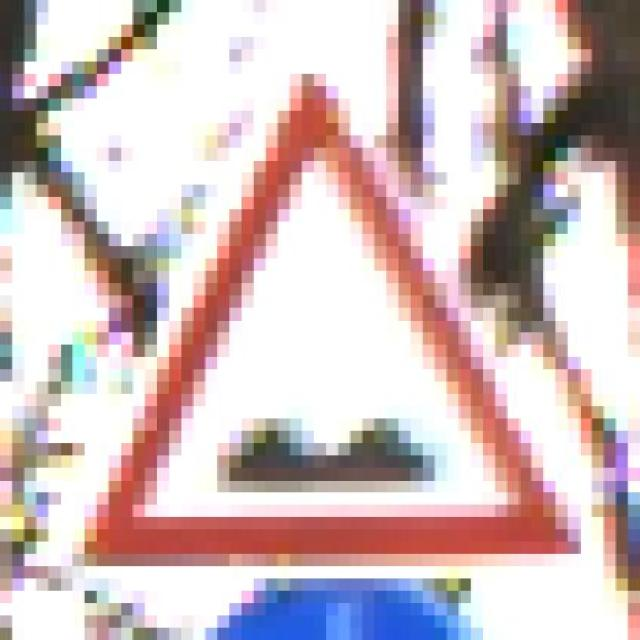Uneven Road: (60, 62, 592, 566)
